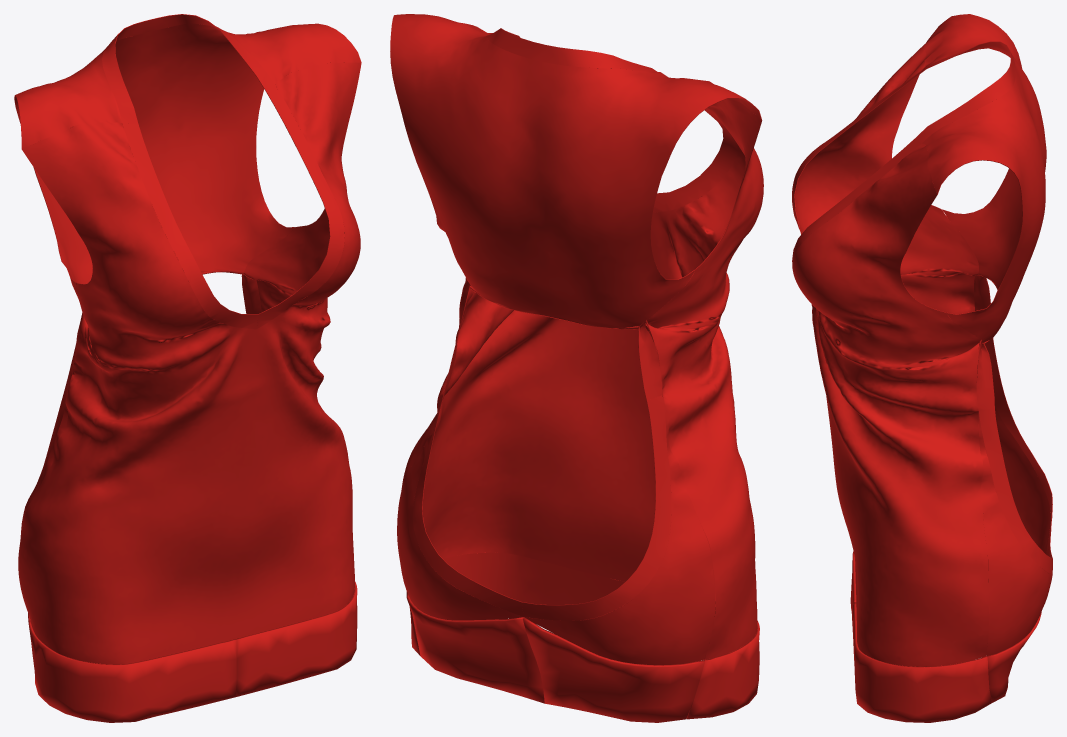
The model's file is female-outfit.glb.
3 views of the same model, side by side, from view 1: azimuth 30°, elevation 25°; view 2: azimuth 150°, elevation 25°; view 3: azimuth 270°, elevation 25° (orthographic). The views are drawn at different scales.
Parts seen in each view (by area): view 1: 1_Body_FRONT_1212416_0; view 2: 1_Body_FRONT_1212416_0; view 3: 1_Body_FRONT_1212416_0.
Part boxes in pixels (<box>): 1_Body_FRONT_1212416_0: <box>14,14,361,722</box>; 1_Body_FRONT_1212416_0: <box>390,14,763,722</box>; 1_Body_FRONT_1212416_0: <box>792,14,1052,722</box>.
Bounding box in the file's own units: 178 × 309 × 123.
